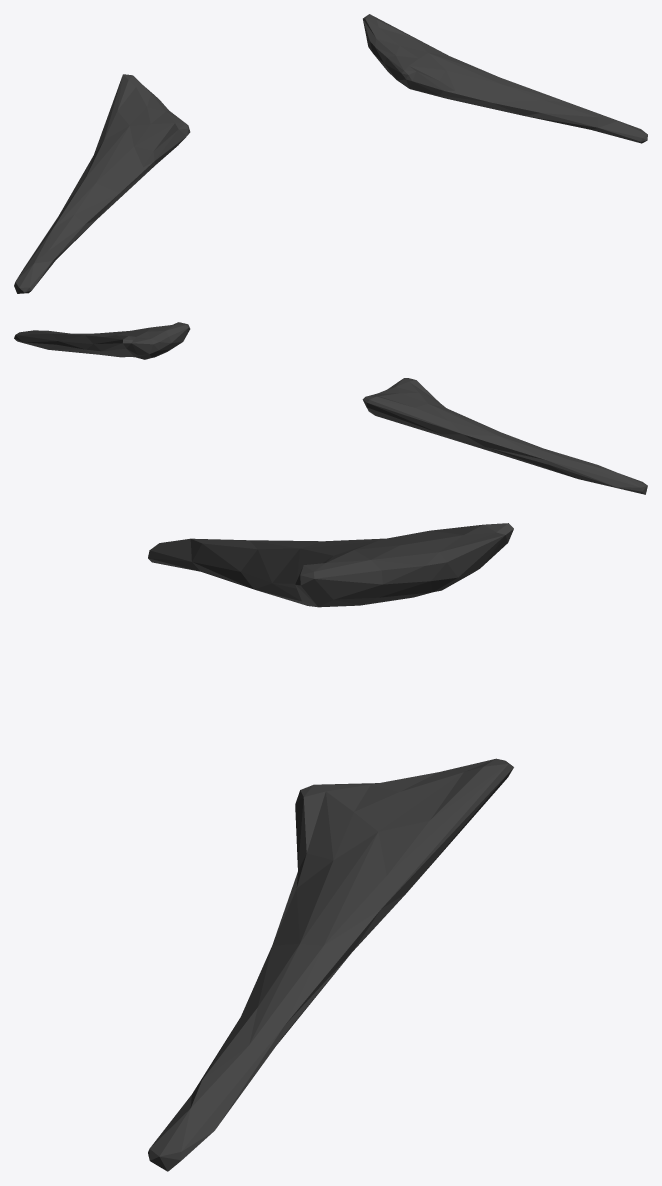
Rendered from m_gemellus.glb.
3 views of the same model, one above another, from view 1: azimuth 30°, elevation 25°; view 2: azimuth 150°, elevation 25°; view 3: azimuth 270°, elevation 25° (orthographic). The views are drawn at different scales.
Parts seen in each view (by area): view 1: m_gemellus; view 2: m_gemellus; view 3: m_gemellus.
Boxes of the visible parts, x1,y1,x2,y2 form: m_gemellus: (14,14,647,293); m_gemellus: (14,322,647,494); m_gemellus: (148,523,513,1171).
Size of the model in its own units: 0.00636 by 0.00107 by 0.00161.
1 material, 1 textured.
